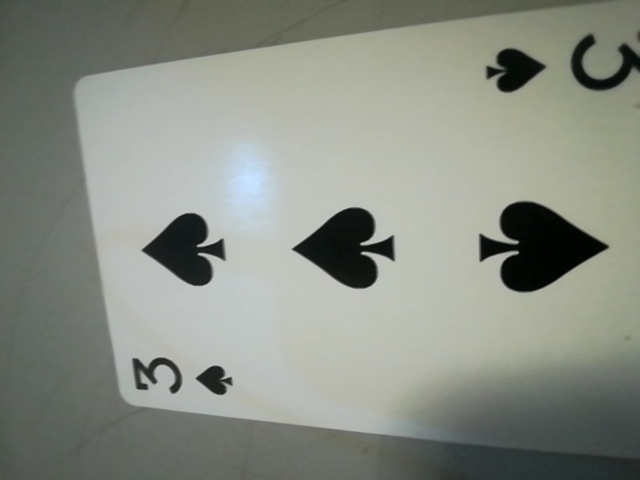ht 3: (474, 23, 640, 106)
